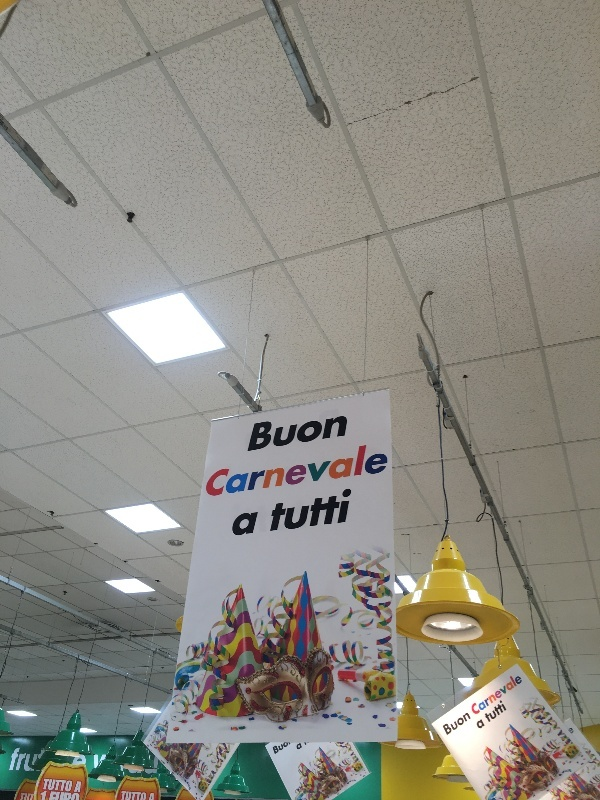text: (225, 437, 240, 500), (241, 437, 256, 500), (257, 437, 272, 500), (273, 437, 288, 500), (289, 437, 304, 500), (305, 437, 320, 500), (321, 437, 336, 500), (337, 437, 352, 500), (353, 437, 368, 500), (369, 437, 384, 500), (211, 437, 224, 500), (289, 487, 304, 532), (305, 487, 320, 532), (321, 487, 336, 532), (337, 487, 352, 532), (481, 673, 496, 717), (497, 673, 512, 717), (274, 487, 288, 532), (257, 416, 272, 453), (273, 416, 288, 453), (289, 416, 304, 453), (305, 416, 320, 453), (321, 416, 336, 453), (513, 673, 524, 717), (17, 745, 32, 774), (449, 709, 464, 737), (337, 416, 348, 453), (33, 745, 47, 774), (241, 511, 256, 538), (471, 673, 480, 717), (273, 733, 288, 759), (385, 437, 391, 500), (484, 700, 496, 725), (497, 700, 508, 725), (49, 776, 64, 794), (465, 709, 472, 737), (65, 776, 74, 794), (443, 709, 448, 737), (235, 511, 240, 538), (295, 740, 304, 754), (289, 733, 293, 759), (44, 776, 48, 794), (481, 719, 486, 732), (257, 511, 259, 538), (476, 719, 480, 732), (77, 780, 80, 795), (255, 416, 256, 453), (15, 745, 16, 774), (81, 780, 82, 795)
